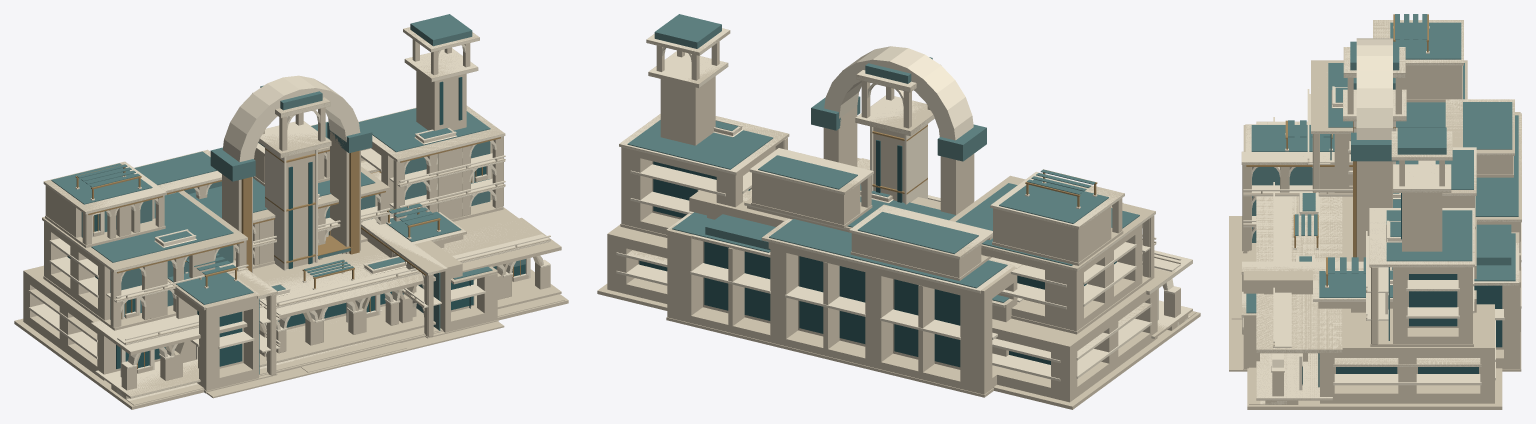
Rendered from oriel-civic-kit.glb.
The picture shows the model from 3 angles, left to right: view 1: azimuth 30°, elevation 25°; view 2: azimuth 150°, elevation 25°; view 3: azimuth 270°, elevation 25°; orthographic projection. The views are drawn at different scales.
Visible parts, largest first — view 1: waterfrontFar__warm_cut_limestone, waterfront__warm_cut_limestone, waterfront__pale_honed_cornice, waterfront__patinated_titanium_roof, gardenCourt__warm_cut_limestone, gardenCourtFar__warm_cut_limestone, gardenCourt__patinated_titanium_roof, sunBracket__pale_honed_cornice, gardenCourt__pale_honed_cornice, towerFar__warm_cut_limestone, waterfrontFar__patinated_titanium_roof, tower__pale_honed_cornice (+10 smaller); view 2: waterfront__warm_cut_limestone, gardenCourt__warm_cut_limestone, waterfrontFar__warm_cut_limestone, waterfront__pale_honed_cornice, gardenCourtFar__warm_cut_limestone, waterfront__patinated_titanium_roof, gardenCourt__deep_blue-green_glazing, gardenCourt__pale_honed_cornice, gardenCourt__patinated_titanium_roof, sunBracket__pale_honed_cornice, waterfrontFar__patinated_titanium_roof, tower__pale_honed_cornice (+8 smaller); view 3: waterfrontFar__warm_cut_limestone, waterfront__pale_honed_cornice, waterfront__warm_cut_limestone, gardenCourt__patinated_titanium_roof, waterfront__patinated_titanium_roof, gardenCourtFar__warm_cut_limestone, gardenCourt__warm_cut_limestone, gardenCourt__pale_honed_cornice, sunBracket__pale_honed_cornice, waterfrontFar__patinated_titanium_roof, waterfront__deep_blue-green_glazing, sunBracket__warm_cut_limestone (+10 smaller).
Part boxes in pixels (x1,y1,x2,y2): waterfrontFar__warm_cut_limestone: (14, 27, 568, 409); waterfront__warm_cut_limestone: (14, 40, 568, 409); waterfront__pale_honed_cornice: (28, 27, 550, 400); waterfront__patinated_titanium_roof: (51, 14, 525, 361); gardenCourt__warm_cut_limestone: (168, 160, 498, 397); gardenCourtFar__warm_cut_limestone: (135, 149, 504, 398); gardenCourt__patinated_titanium_roof: (134, 151, 477, 304); sunBracket__pale_honed_cornice: (222, 75, 360, 162); gardenCourt__pale_honed_cornice: (134, 150, 497, 360); towerFar__warm_cut_limestone: (252, 92, 331, 268); waterfrontFar__patinated_titanium_roof: (81, 15, 490, 319); tower__pale_honed_cornice: (258, 99, 331, 270); waterfront__warm_cut_limestone: (597, 41, 1199, 409); gardenCourt__warm_cut_limestone: (666, 158, 1016, 397); waterfrontFar__warm_cut_limestone: (597, 28, 1200, 409); waterfront__pale_honed_cornice: (616, 28, 1192, 381); gardenCourtFar__warm_cut_limestone: (666, 158, 1122, 397); waterfront__patinated_titanium_roof: (627, 14, 1139, 265); gardenCourt__deep_blue-green_glazing: (704, 241, 960, 367); gardenCourt__pale_honed_cornice: (667, 158, 1023, 339); gardenCourt__patinated_titanium_roof: (672, 212, 1009, 302); sunBracket__pale_honed_cornice: (824, 46, 973, 140); waterfrontFar__patinated_titanium_roof: (627, 14, 887, 197); tower__pale_honed_cornice: (855, 70, 934, 204); waterfrontFar__warm_cut_limestone: (1247, 20, 1502, 409); waterfront__pale_honed_cornice: (1256, 20, 1495, 404); waterfront__warm_cut_limestone: (1247, 62, 1501, 409); gardenCourt__patinated_titanium_roof: (1246, 102, 1518, 312); waterfront__patinated_titanium_roof: (1295, 14, 1473, 261); gardenCourtFar__warm_cut_limestone: (1229, 99, 1521, 371); gardenCourt__warm_cut_limestone: (1229, 100, 1520, 371); gardenCourt__pale_honed_cornice: (1242, 99, 1521, 329); sunBracket__pale_honed_cornice: (1356, 38, 1392, 139); waterfrontFar__patinated_titanium_roof: (1330, 127, 1472, 340); waterfront__deep_blue-green_glazing: (1302, 134, 1478, 387); sunBracket__warm_cut_limestone: (1356, 161, 1392, 261).
Size of the model in its own units: 150 by 75.5 by 80.4.
